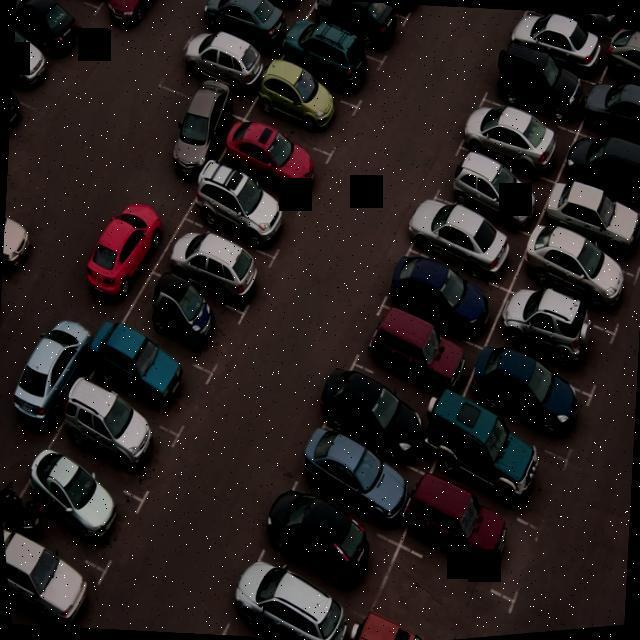car: (403, 460, 533, 606), (264, 498, 401, 626), (20, 440, 142, 566), (89, 318, 203, 447), (57, 377, 170, 507), (432, 408, 570, 509), (360, 299, 480, 410), (318, 367, 435, 472), (300, 422, 411, 531), (498, 280, 616, 378), (391, 250, 503, 353), (466, 350, 586, 446), (223, 106, 329, 213), (199, 152, 296, 265), (412, 188, 520, 289), (512, 220, 632, 310), (0, 531, 110, 629), (171, 216, 271, 319), (137, 268, 234, 372), (454, 95, 570, 175), (255, 61, 352, 156), (436, 143, 544, 228), (281, 19, 375, 112), (230, 569, 353, 640), (482, 44, 586, 127), (165, 32, 262, 115), (499, 10, 606, 80), (544, 171, 640, 249), (568, 125, 640, 216), (310, 0, 399, 65), (198, 0, 289, 60), (579, 72, 640, 160), (227, 0, 314, 26), (532, 10, 628, 30), (342, 1, 426, 19)
free: (382, 535, 503, 640)
